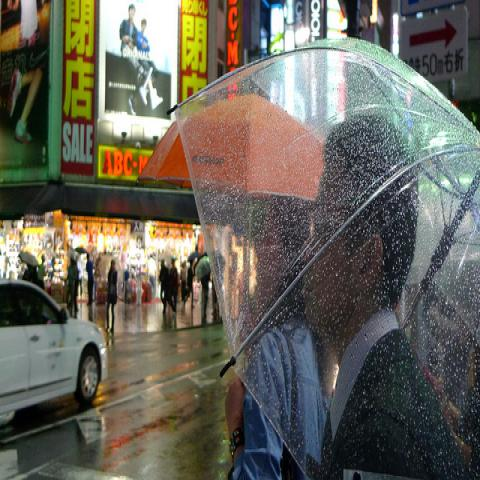car: (3, 278, 112, 417)
